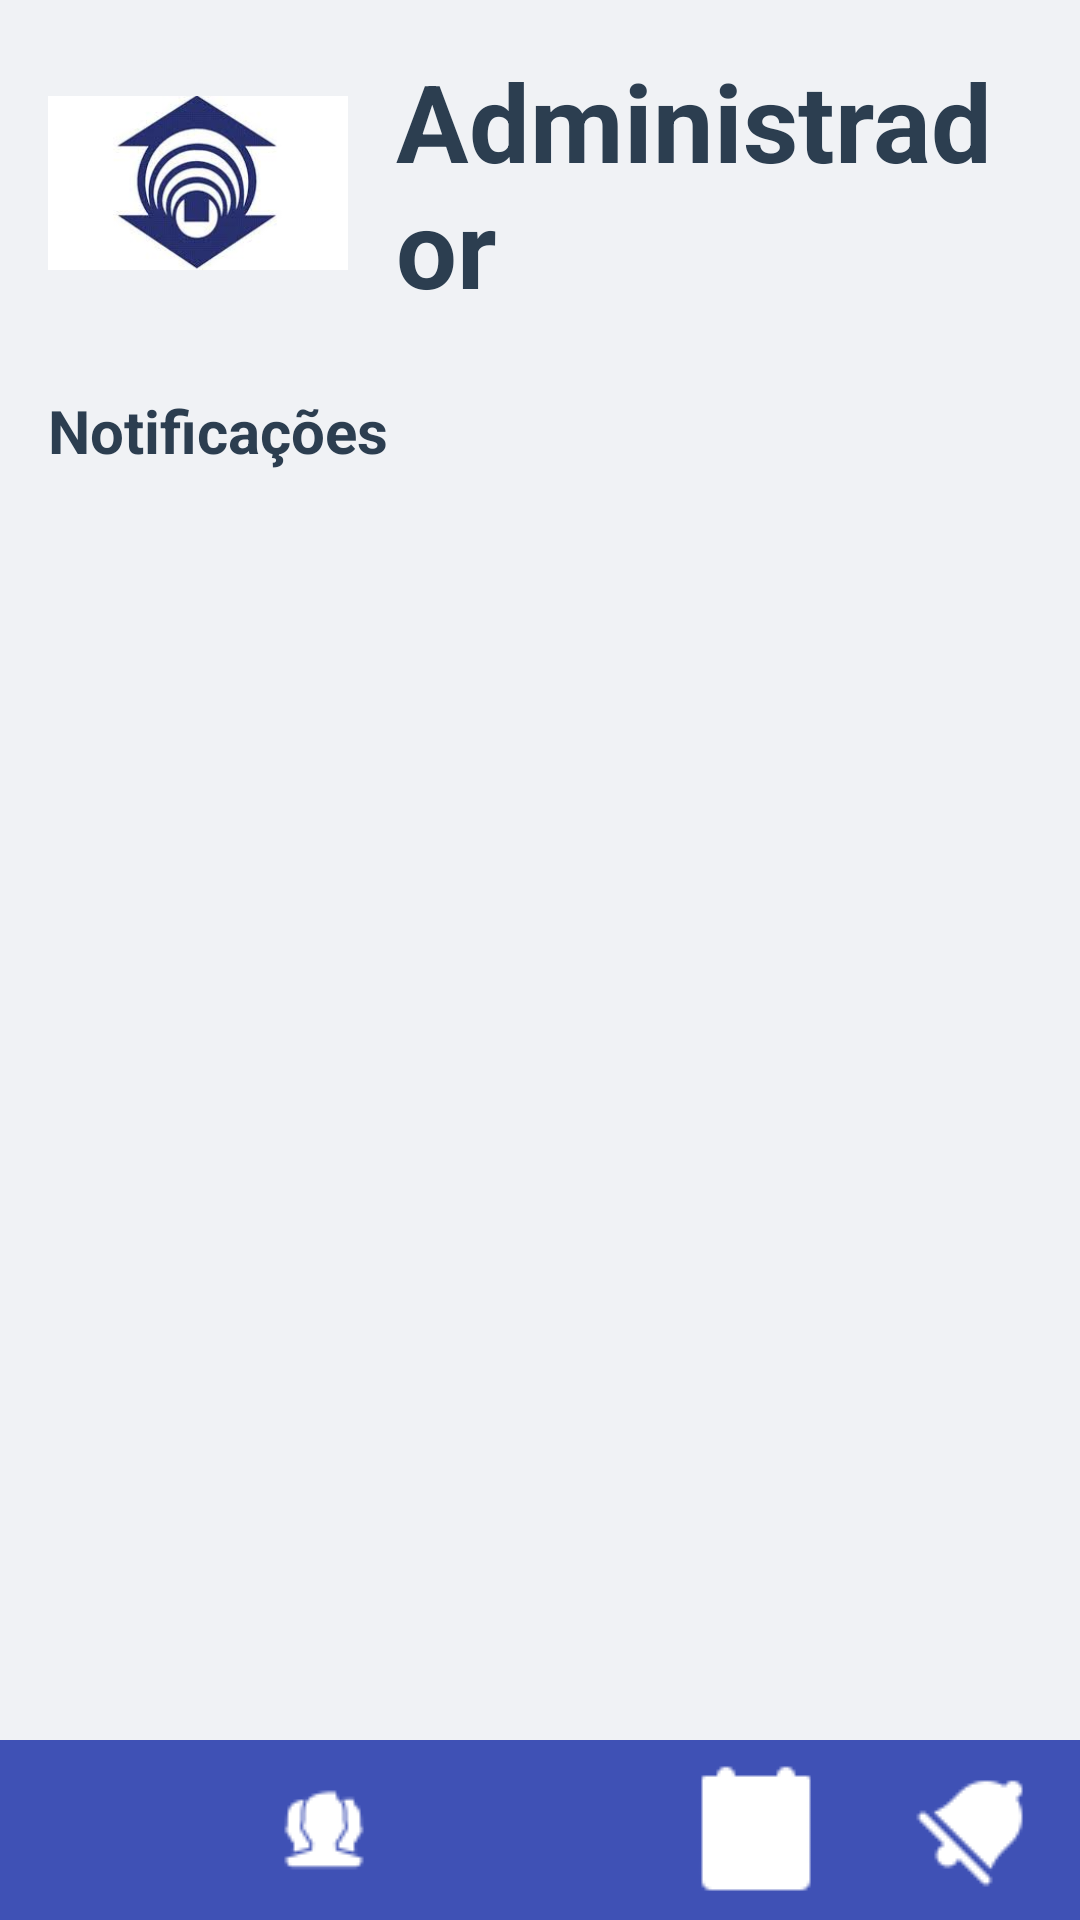

Locate icon controls on the screen. Image size 1080*1920, boxes as (x1, y1, x2, y2).
Abrir perfil do usuário: (284, 1790, 364, 1869)
Ver eventos: (701, 1766, 811, 1891)
